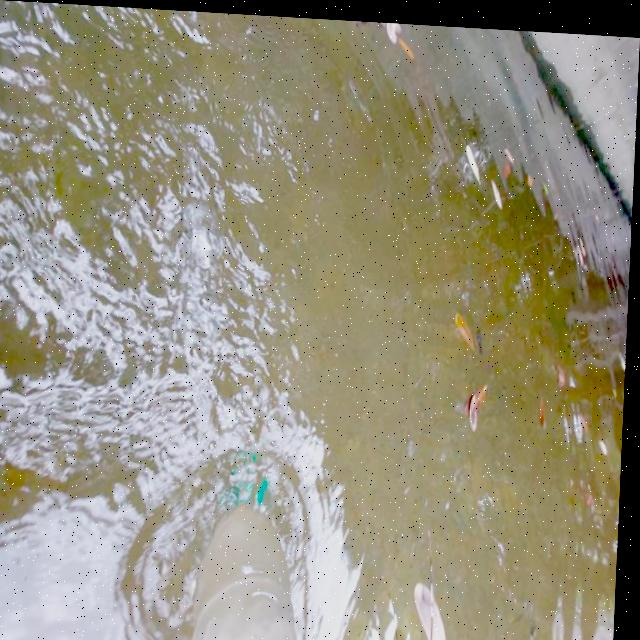waterbottle: (165, 431, 319, 640)
